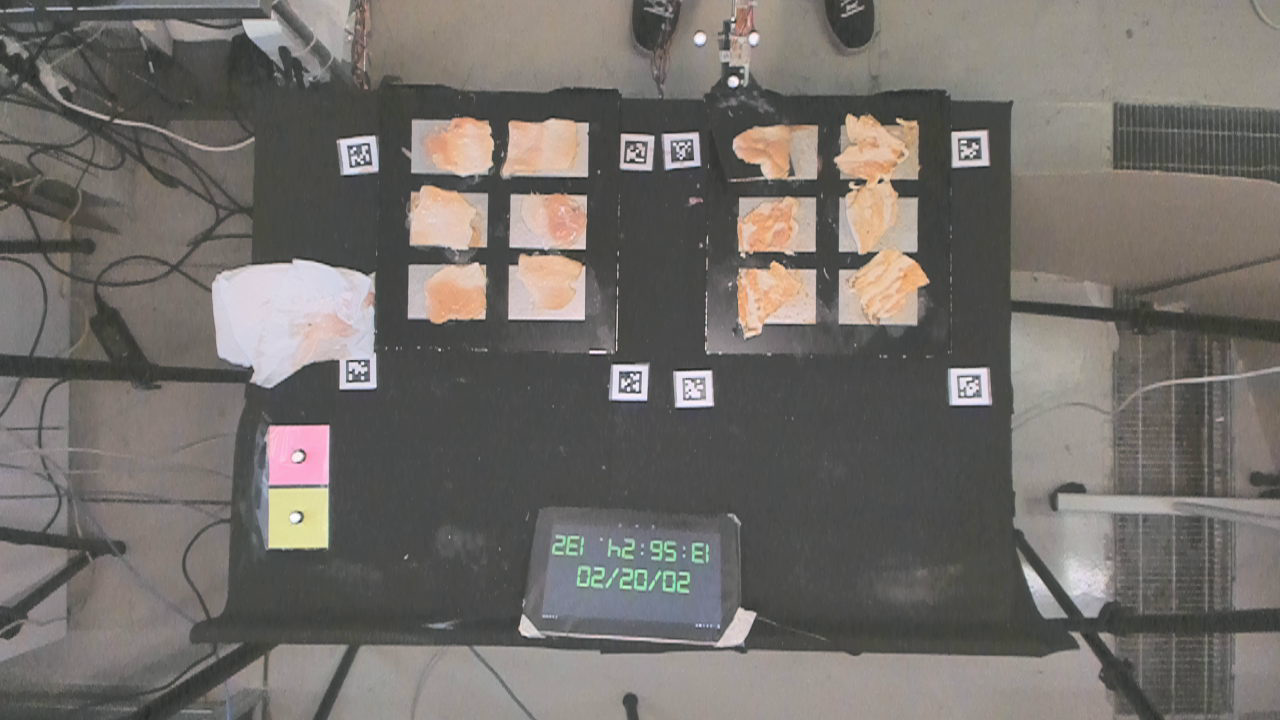chicken: (404, 182, 485, 254), (850, 247, 932, 316), (839, 107, 907, 183), (420, 112, 495, 177), (503, 117, 581, 176), (733, 264, 798, 334), (733, 196, 807, 253), (843, 177, 898, 253), (732, 122, 799, 182), (424, 262, 488, 324), (523, 192, 589, 249), (519, 254, 585, 311)
marker: (265, 425, 329, 485)
